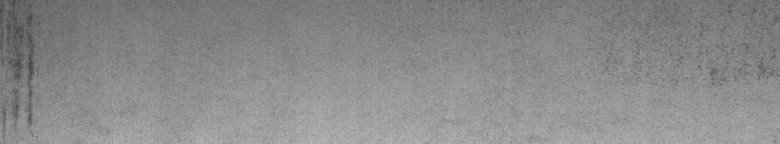ib: (700, 8, 774, 86)
